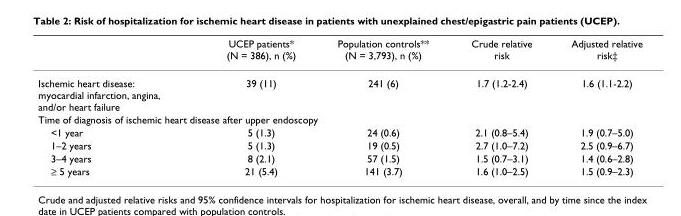table: (37, 37, 641, 177)
table column: (37, 37, 192, 177), (315, 37, 449, 177), (192, 37, 315, 177), (449, 37, 550, 177), (550, 37, 641, 177)
table column header: (37, 37, 641, 68)
table projected row header: (37, 112, 641, 125)
table row: (37, 68, 641, 112), (37, 37, 641, 68), (37, 163, 641, 177), (37, 112, 641, 125), (37, 125, 641, 138), (37, 138, 641, 151), (37, 151, 641, 163)
